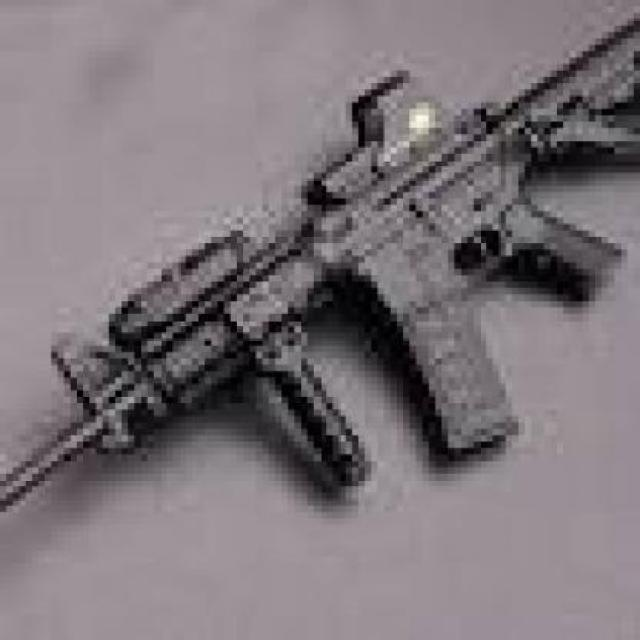weapon: (1, 8, 640, 532)
